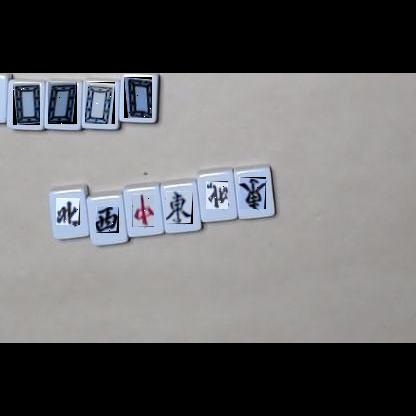1z: (166, 191, 193, 224), (239, 177, 266, 209)
3z: (96, 207, 119, 233)
4z: (56, 198, 80, 225), (206, 181, 228, 209)
5z: (85, 82, 115, 124), (48, 82, 77, 124), (124, 77, 152, 118), (13, 83, 40, 125)
7z: (132, 194, 154, 227)
